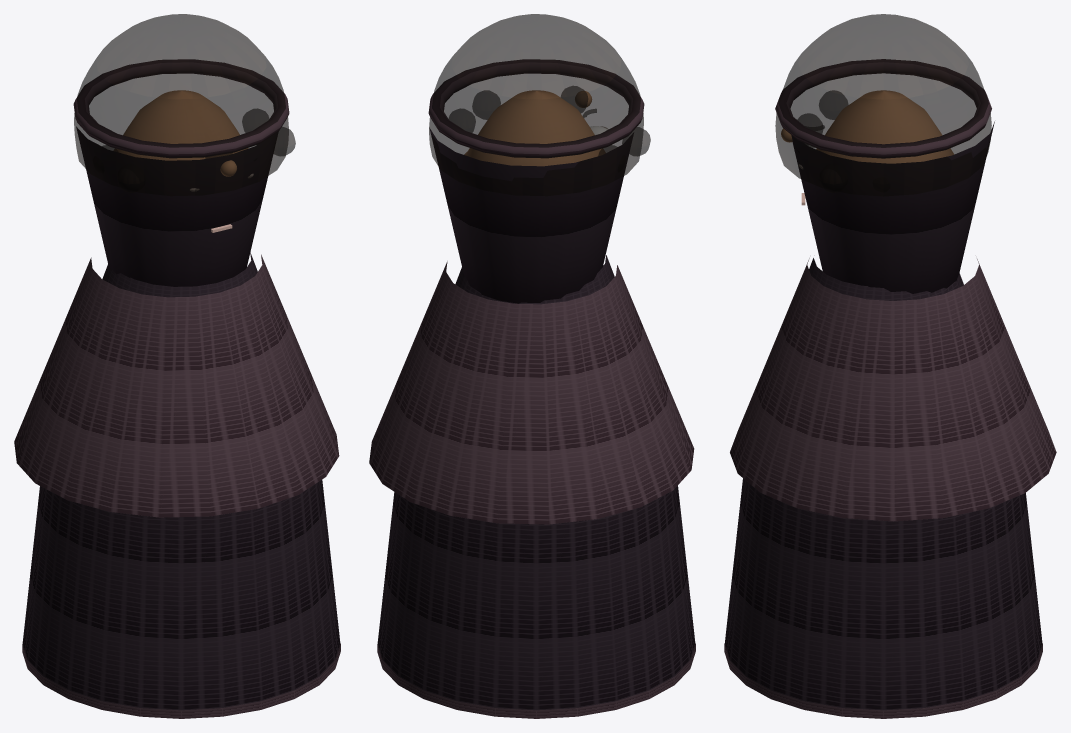
Rendered from devout_follower.glb.
3 renders of one model, left to right at view 1: azimuth 30°, elevation 25°; view 2: azimuth 150°, elevation 25°; view 3: azimuth 270°, elevation 25°, orthographic.
Visible parts, largest first — view 1: Character_woman_who_gave_cloak, head; view 2: Character_woman_who_gave_cloak, head; view 3: Character_woman_who_gave_cloak, head.
Boxes of the visible parts, box(x1,y1,x2,y2) form: Character_woman_who_gave_cloak: box(14, 14, 340, 718); head: box(114, 90, 247, 160); Character_woman_who_gave_cloak: box(369, 14, 695, 718); head: box(466, 90, 604, 165); Character_woman_who_gave_cloak: box(724, 14, 1056, 718); head: box(816, 90, 953, 163).
Bounding box in the file's own units: 0.8492 × 1.8 × 0.8632.
Materials: 10 (6 with a texture image).
